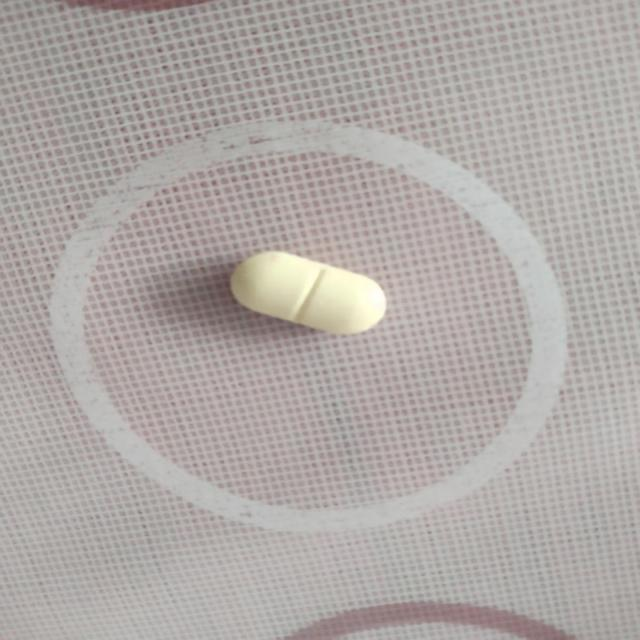pill: (220, 250, 404, 342)
